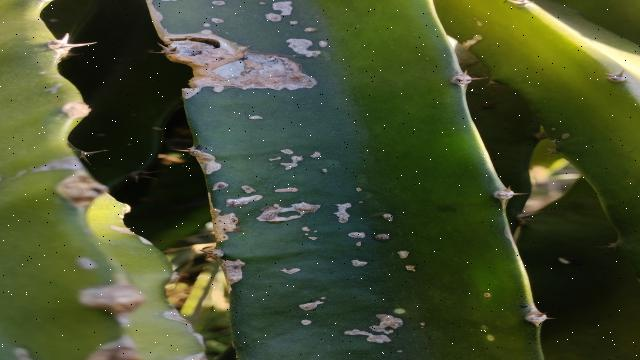stemcanker: (254, 300, 395, 345), (340, 240, 399, 290), (255, 199, 326, 224), (217, 254, 248, 290), (327, 192, 357, 227), (265, 261, 314, 280)
